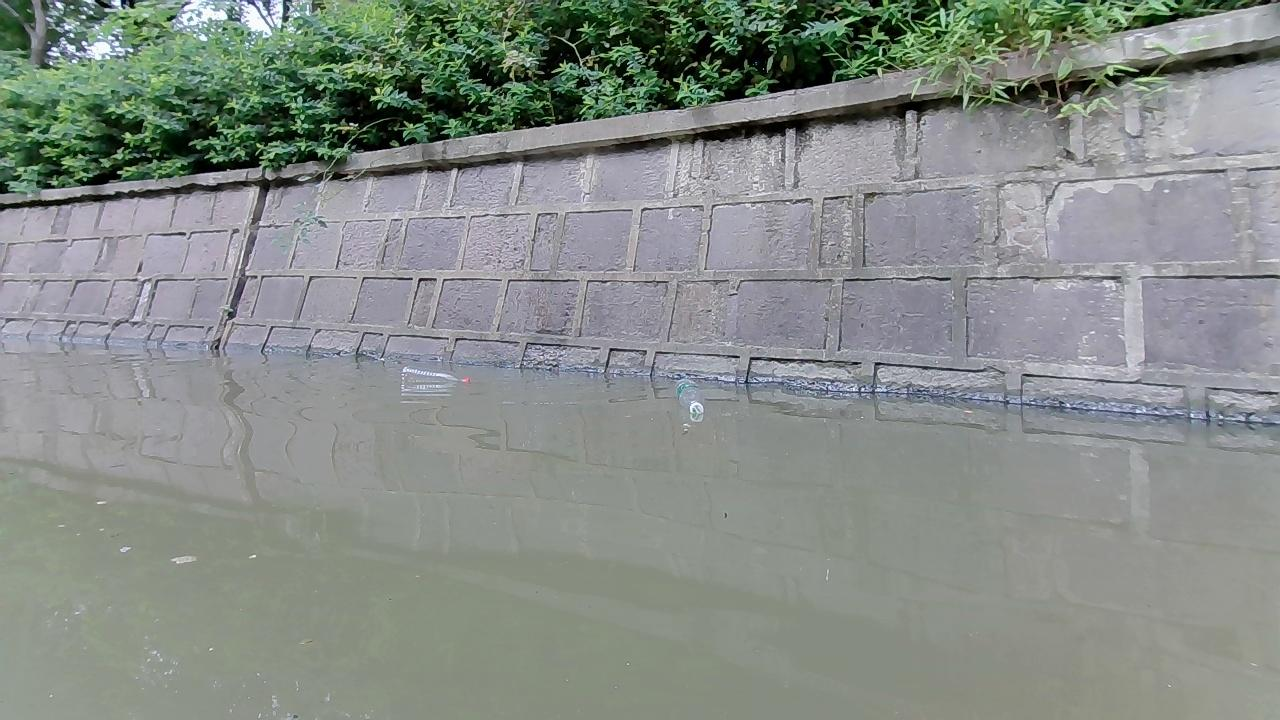bottle: (399, 365, 469, 384), (672, 378, 704, 412)
